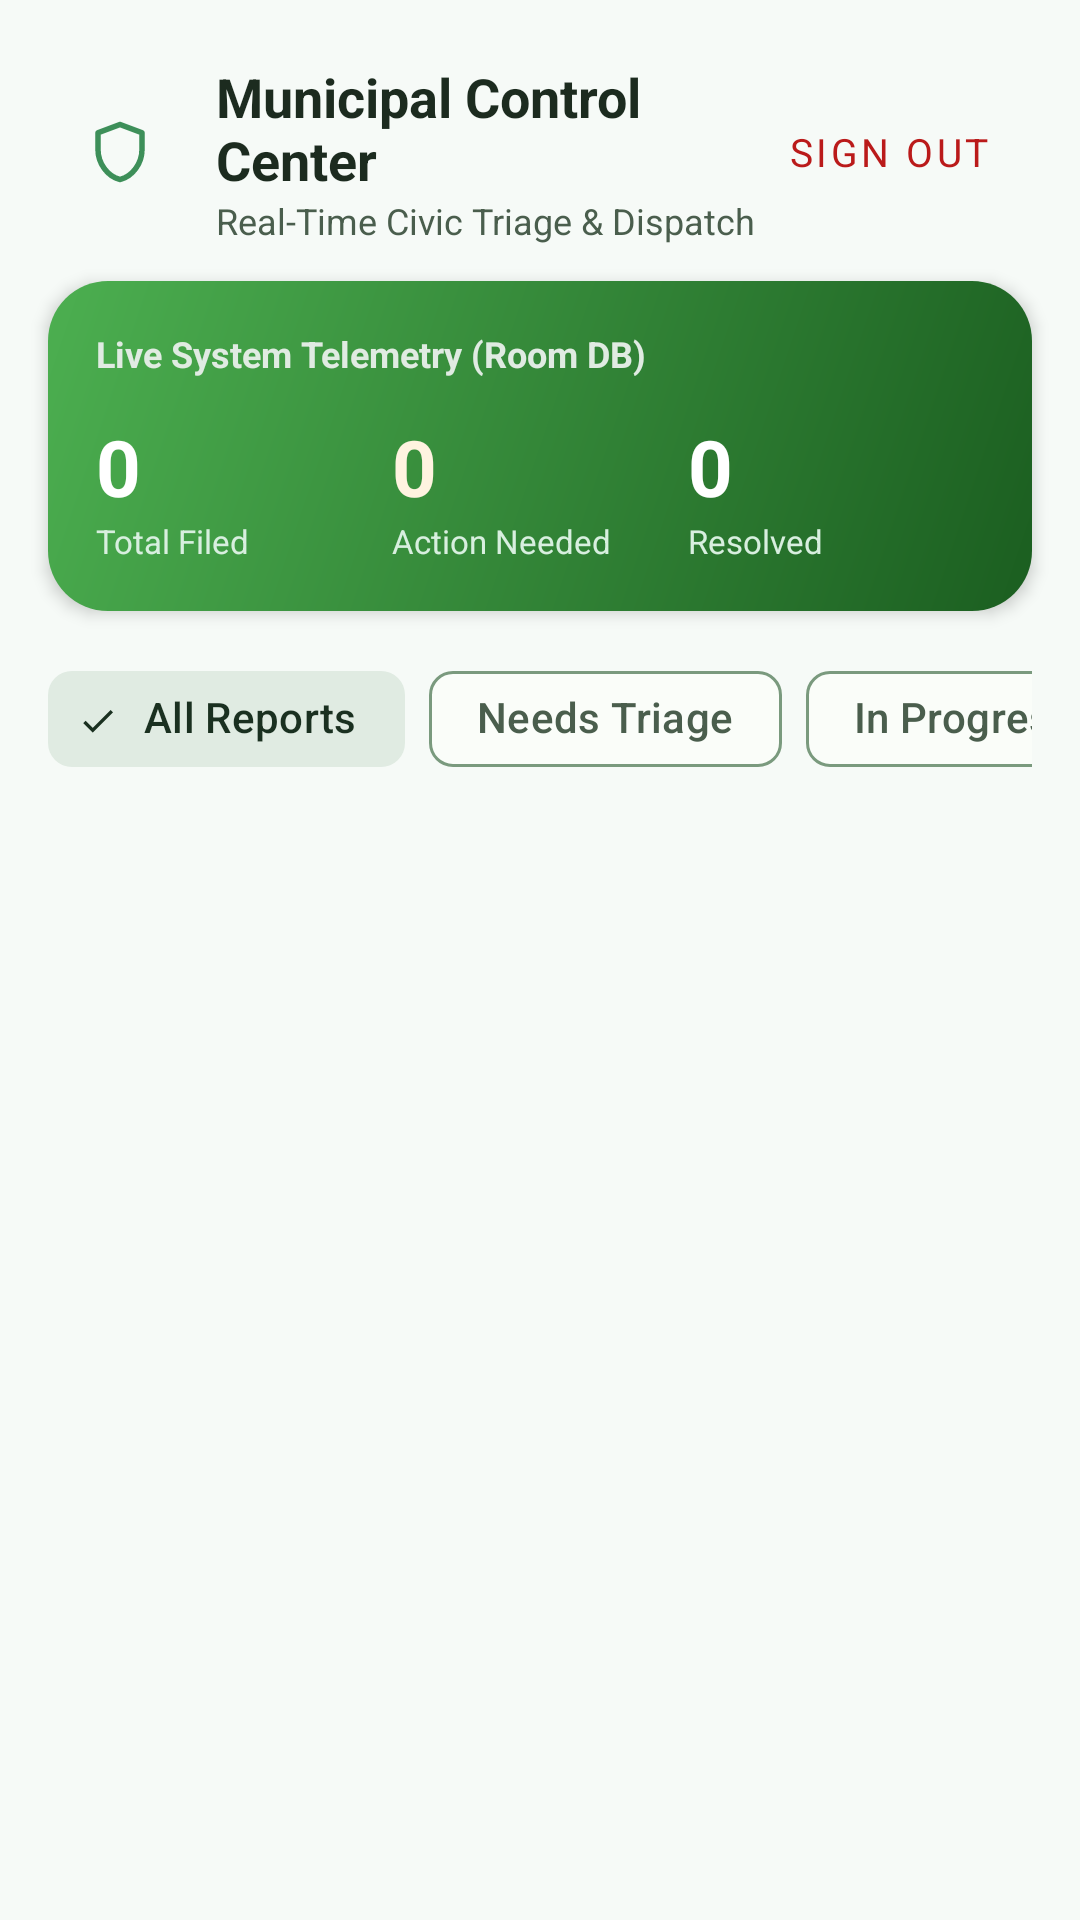

Icons on this 1080w x 1920h Android screen, each with its box as BBox(x1, y1, x2, y2):
Municipal Admin: BBox(95, 121, 145, 183)
